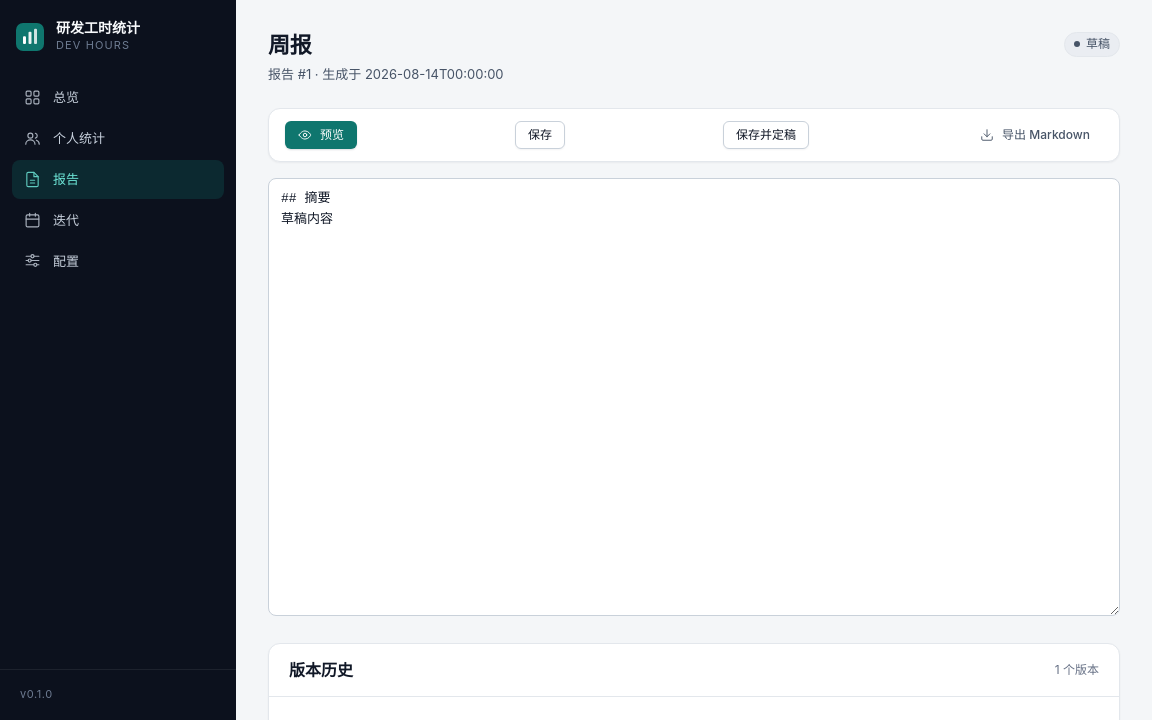
Test: ReportEditorPage › loads and edits report, saves new version
Replace the text in the text box named "report-content" with "人工修订" at (694, 397), box top-left (268, 178), bottom-right (1120, 616)
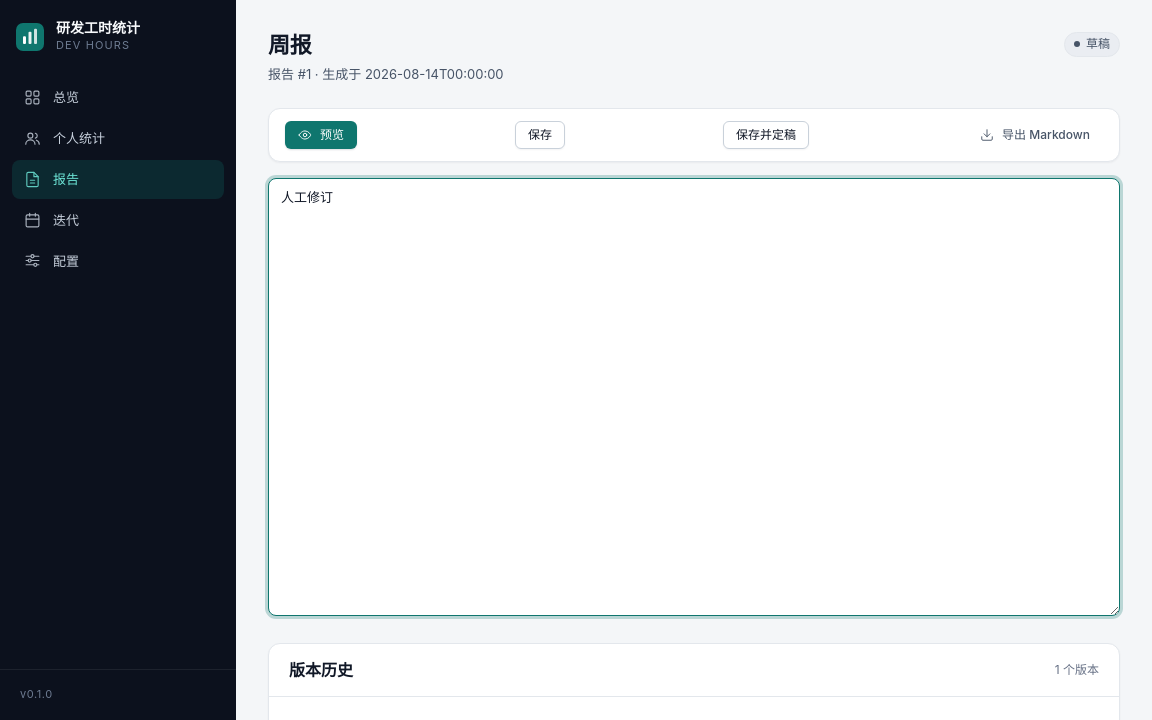
Click the button "保存" at (540, 135), box top-left (515, 121), bottom-right (565, 149)
(page scrolled)
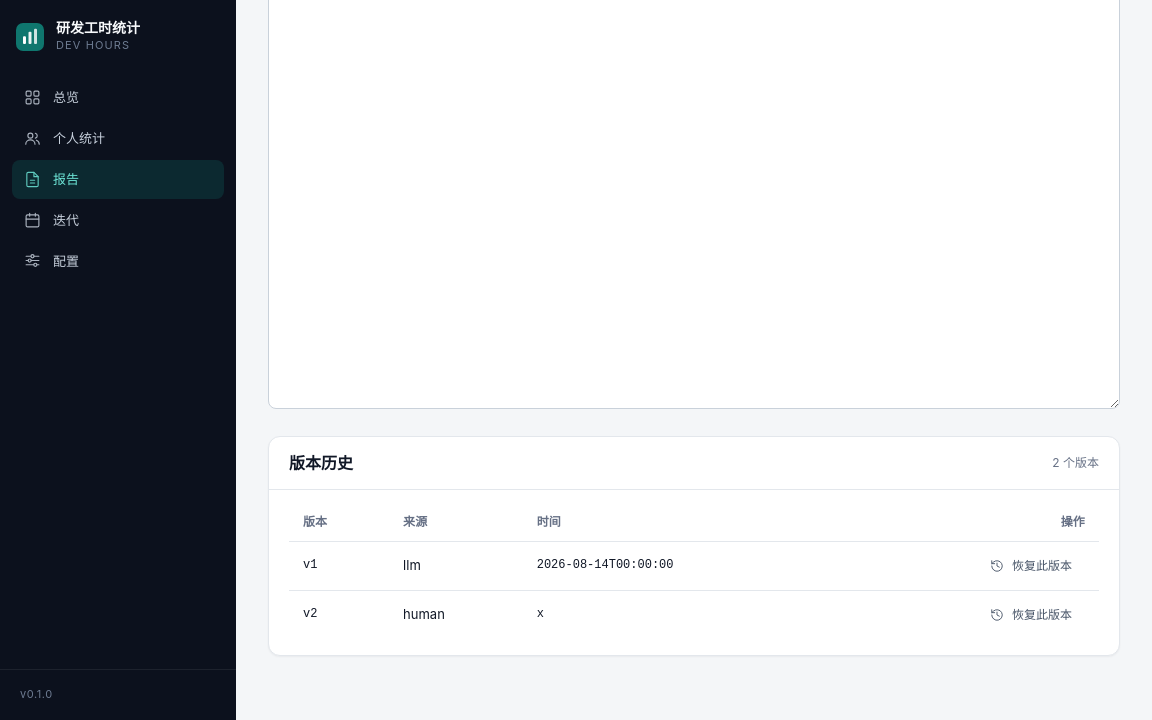
Expected: the text "v2" is shown, top-left (289, 590), bottom-right (389, 639)
